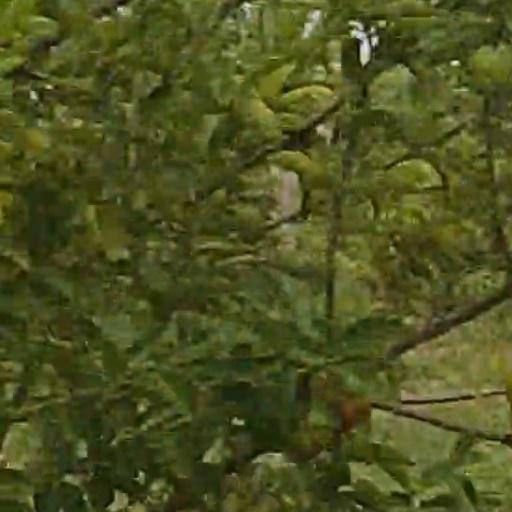acerola: (477, 43, 510, 91), (338, 401, 368, 424)
